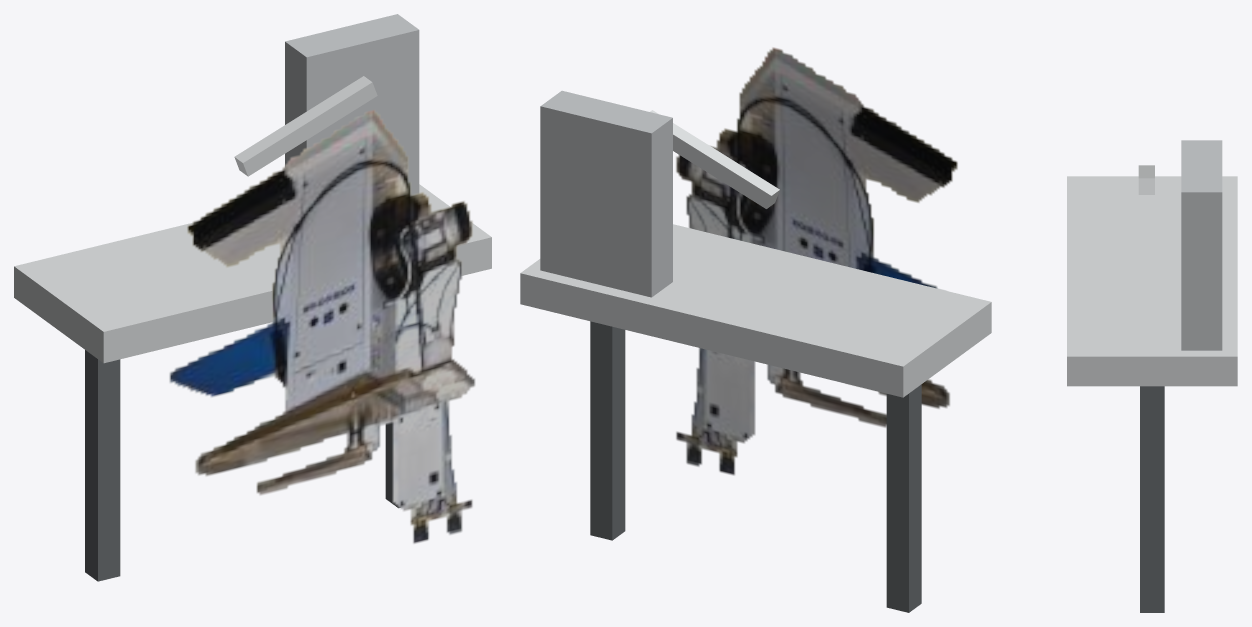
The model's file is rotondi-spotting-table.glb.
The picture shows the model from 3 angles, left to right: view 1: azimuth 30°, elevation 25°; view 2: azimuth 150°, elevation 25°; view 3: azimuth 270°, elevation 25°; orthographic projection. The views are drawn at different scales.
Parts seen in each view (by area): view 1: front_decal, top, rear_panel, leg-0.6, arm, leg0.6; view 2: front_decal, top, rear_panel, leg-0.6, leg0.6, arm; view 3: top, rear_panel, leg0.6, arm.
Boxes of the visible parts, x1,y1,x2,y2 form: front_decal: (169,110,475,543); top: (14,184,491,363); rear_panel: (285,14,419,195); leg-0.6: (85,350,120,581); arm: (234,76,377,176); leg0.6: (385,422,400,508); front_decal: (676,47,957,475); top: (520,224,991,397); rear_panel: (540,90,672,297); leg-0.6: (886,384,921,612); leg0.6: (590,321,625,540); arm: (650,110,779,208); top: (1067,176,1237,386); rear_panel: (1181,140,1222,350); leg0.6: (1140,386,1164,612); arm: (1138,165,1154,194).
Bounding box in the file's own units: 1.55 × 1.81 × 0.79.
Materials: 4 (1 with a texture image).
